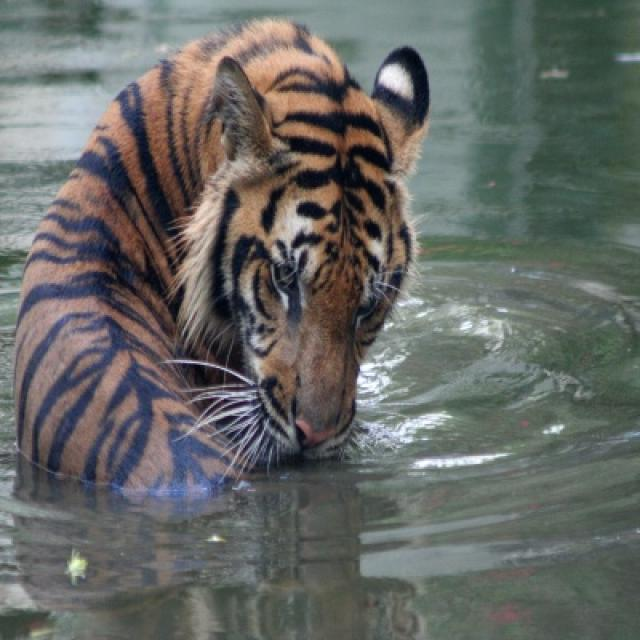Tiger: (8, 20, 432, 496)
